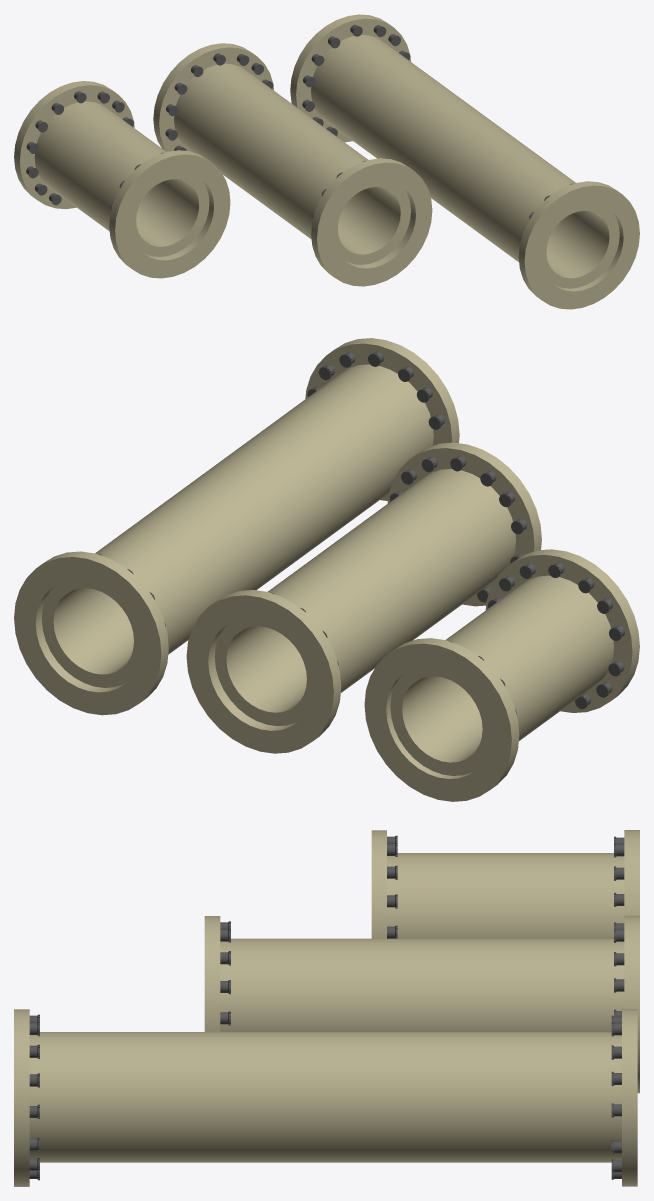
The model's file is pipes1.fbx.
3 renders of one model, top to bottom at view 1: azimuth 30°, elevation 25°; view 2: azimuth 150°, elevation 25°; view 3: azimuth 270°, elevation 25°, orthographic. The views are drawn at different scales.
Visible parts, largest first — view 1: Цилиндр.004, Цилиндр.013, Цилиндр.008, Цилиндр.011, Цилиндр.003, Цилиндр.007, Цилиндр.009, Цилиндр.014, Цилиндр.001, Цилиндр.002, Цилиндр.029, Цилиндр.010; view 2: Цилиндр.004, Цилиндр.013, Цилиндр.008, Цилиндр.014, Цилиндр.001, Цилиндр.009, Цилиндр.003, Цилиндр.011, Цилиндр.007, Цилиндр.006, Цилиндр.012, Цилиндр.005; view 3: Цилиндр.004, Цилиндр.013, Цилиндр.008, Цилиндр.001, Цилиндр.007, Цилиндр.011, Цилиндр.014, Цилиндр.003, Цилиндр.009, Цилиндр.005, Цилиндр.029, Цилиндр.006 (+3 smaller).
Boxes of the visible parts, box(x1,y1,x2,y2) form: Цилиндр.004: box(311, 35, 619, 288); Цилиндр.013: box(174, 63, 410, 264); Цилиндр.008: box(34, 101, 209, 256); Цилиндр.011: box(311, 158, 432, 286); Цилиндр.003: box(109, 150, 230, 278); Цилиндр.007: box(518, 181, 639, 309); Цилиндр.009: box(14, 81, 134, 209); Цилиндр.014: box(153, 43, 273, 151); Цилиндр.001: box(290, 14, 410, 142); Цилиндр.002: box(26, 91, 133, 205); Цилиндр.029: box(302, 24, 410, 136); Цилиндр.010: box(165, 53, 273, 150); Цилиндр.004: box(42, 364, 433, 687); Цилиндр.013: box(214, 469, 515, 726); Цилиндр.008: box(390, 575, 613, 775); Цилиндр.014: box(186, 590, 341, 753); Цилиндр.001: box(14, 551, 168, 715); Цилиндр.009: box(364, 638, 519, 801); Цилиндр.003: box(485, 549, 639, 712); Цилиндр.011: box(387, 442, 541, 606); Цилиндр.007: box(305, 338, 459, 500); Цилиндр.006: box(488, 562, 624, 709); Цилиндр.012: box(390, 456, 526, 602); Цилиндр.005: box(307, 351, 444, 429); Цилиндр.004: box(29, 1032, 621, 1162); Цилиндр.013: box(220, 938, 624, 1031); Цилиндр.008: box(387, 853, 624, 938); Цилиндр.001: box(622, 1009, 637, 1186); Цилиндр.007: box(14, 1009, 29, 1186); Цилиндр.011: box(204, 916, 220, 1031); Цилиндр.014: box(624, 915, 639, 1093); Цилиндр.003: box(371, 830, 386, 938); Цилиндр.009: box(624, 830, 639, 915); Цилиндр.005: box(29, 1014, 39, 1180); Цилиндр.029: box(611, 1015, 621, 1179); Цилиндр.006: box(387, 835, 397, 938).
Size of the model in its own units: 652 by 198 by 678.
